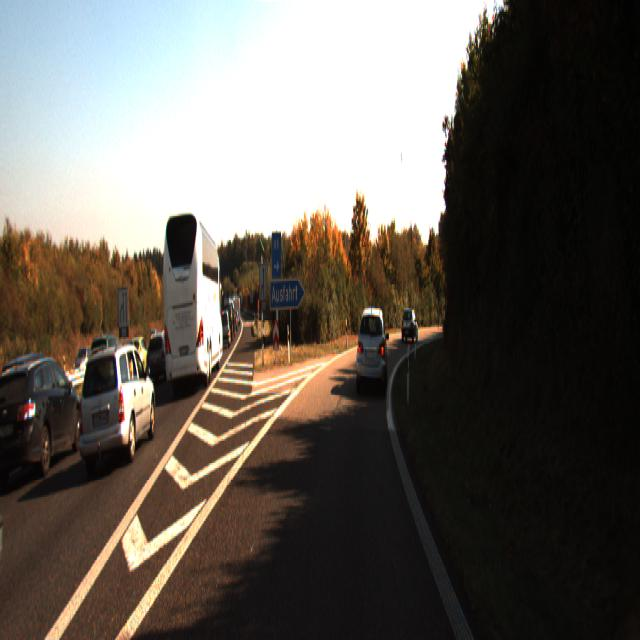Car: (0, 347, 84, 489), (161, 204, 222, 397), (79, 338, 156, 472), (356, 303, 387, 393), (401, 308, 419, 344), (434, 306, 449, 332)
